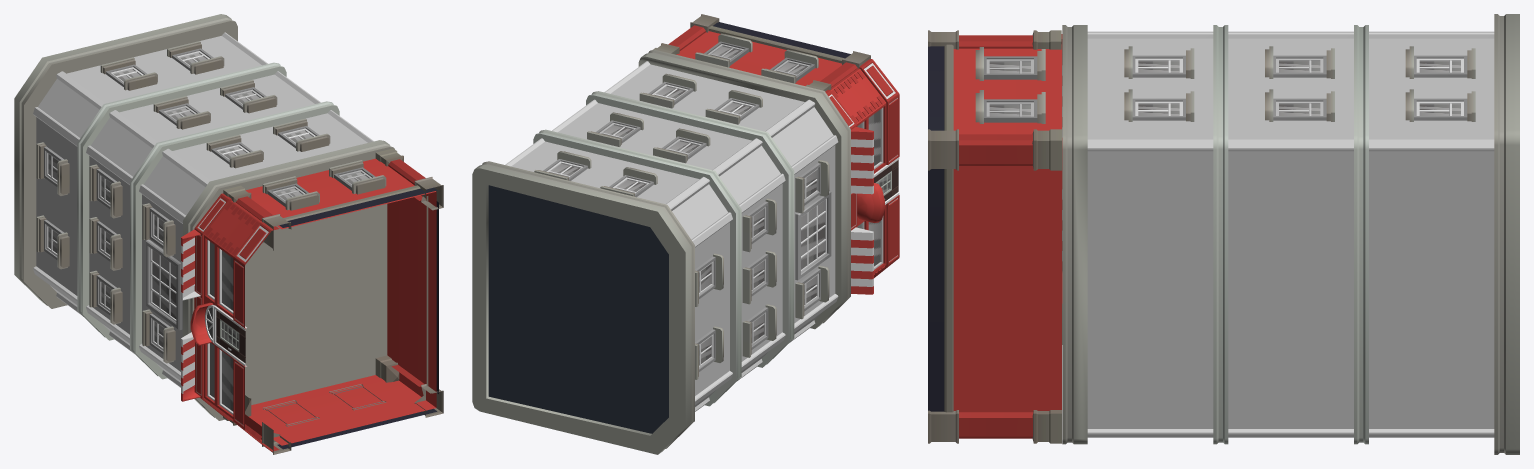
File: Building_3_3_C.fbx
3 views of the same model, side by side, from view 1: azimuth 30°, elevation 25°; view 2: azimuth 150°, elevation 25°; view 3: azimuth 270°, elevation 25° (orthographic). The views are drawn at different scales.
Visible parts, largest first — view 1: Building 3_3_C; view 2: Building 3_3_C; view 3: Building 3_3_C.
Part boxes in pixels (x1=…): Building 3_3_C: x1=14, y1=14, x2=443, y2=454; Building 3_3_C: x1=472, y1=14, x2=899, y2=454; Building 3_3_C: x1=928, y1=14, x2=1519, y2=454.
Size of the model in its own units: 808 by 837 by 1383.
